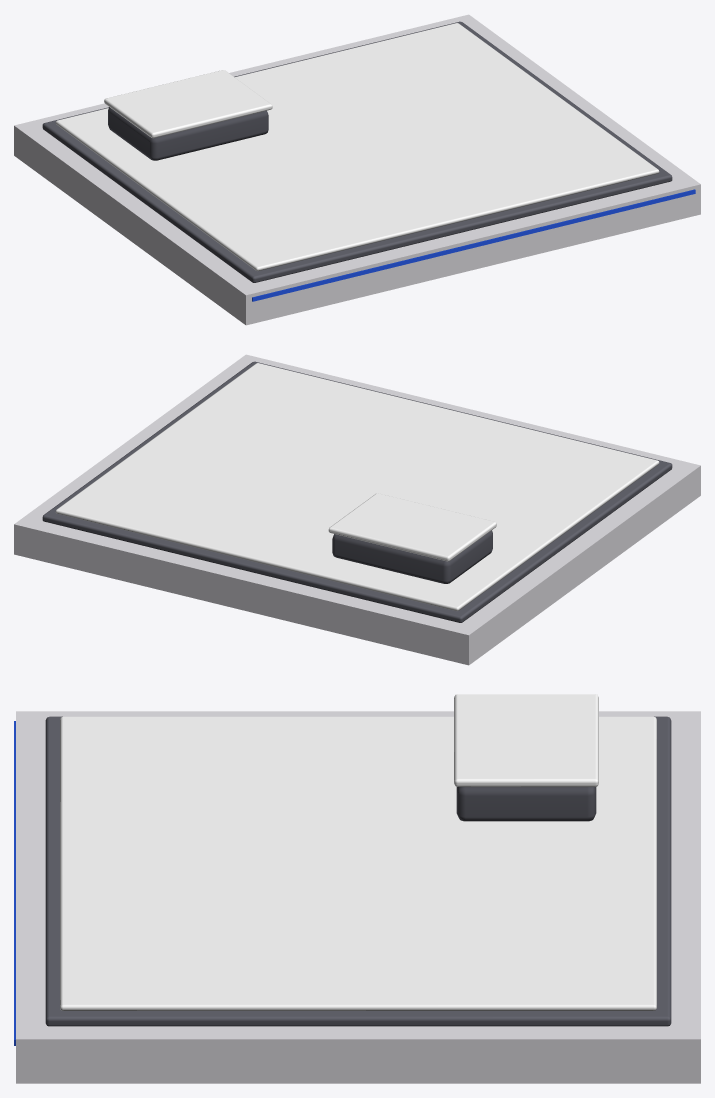
Rendered from ida-roof.glb.
3 views of the same model, one above another, from view 1: azimuth 30°, elevation 25°; view 2: azimuth 150°, elevation 25°; view 3: azimuth 270°, elevation 25° (orthographic). The views are drawn at different scales.
Parts seen in each view (by area): view 1: Snow, Structure, Metal, Accent; view 2: Snow, Structure, Metal; view 3: Snow, Structure, Metal, Accent.
Part boxes in pixels (x1=…): Snow: x1=55, y1=23, x2=659, y2=271; Structure: x1=14, y1=14, x2=700, y2=325; Metal: x1=42, y1=21, x2=672, y2=282; Accent: x1=252, y1=189, x2=695, y2=301; Snow: x1=55, y1=363, x2=659, y2=611; Structure: x1=14, y1=354, x2=700, y2=665; Metal: x1=42, y1=361, x2=672, y2=622; Snow: x1=60, y1=694, x2=656, y2=1010; Structure: x1=16, y1=711, x2=700, y2=1083; Metal: x1=45, y1=716, x2=671, y2=1026; Accent: x1=14, y1=721, x2=15, y2=1045.
Bounding box in the file's own units: 3 × 0.4376 × 2.66.
